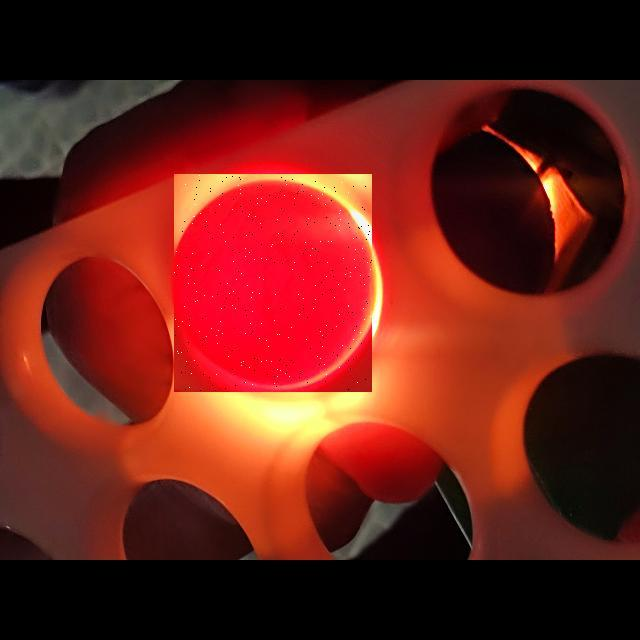Infertile: (174, 174, 372, 392)
